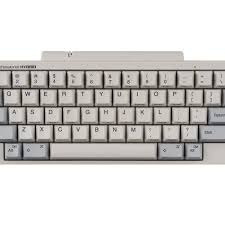keyboard: (0, 59, 225, 165)
